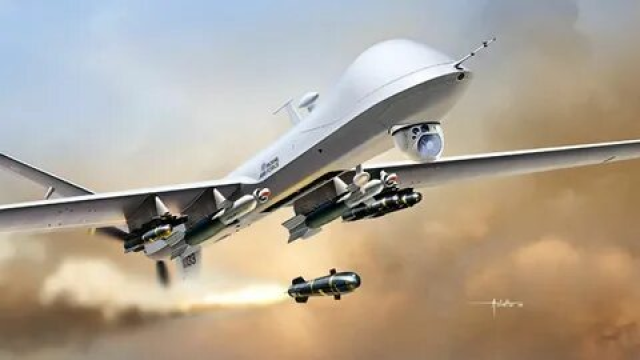military drone: (0, 35, 640, 280)
